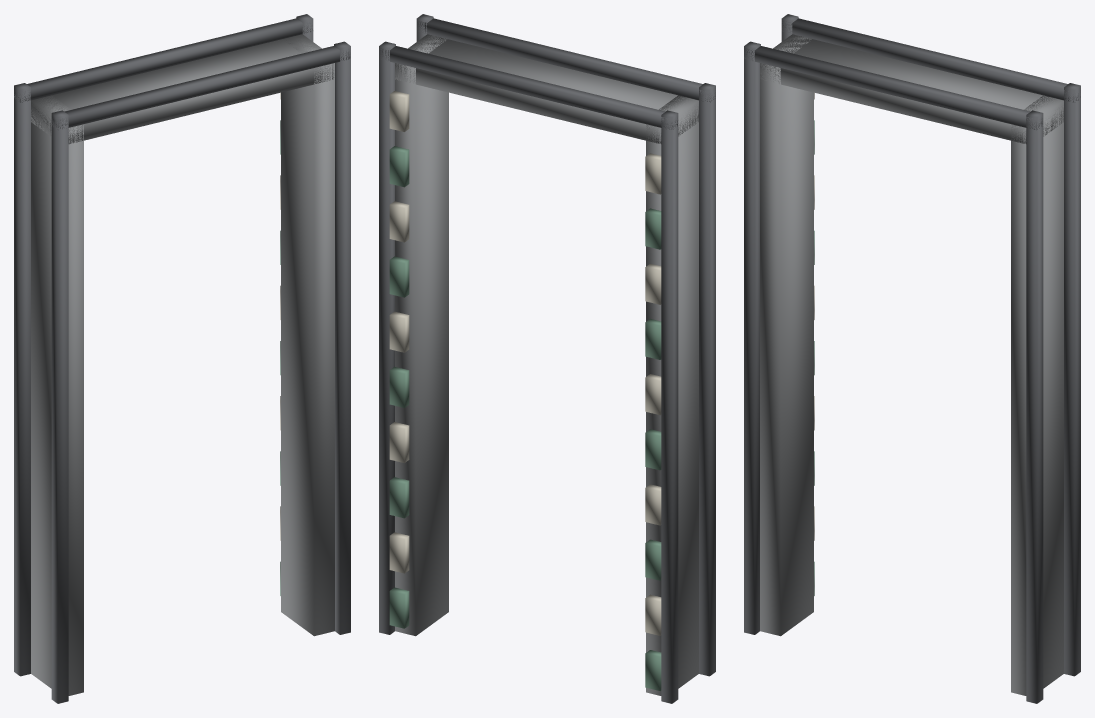
The model's file is doorway_tile_return_w96_h220_d24.glb.
The picture shows the model from 3 angles, left to right: view 1: azimuth 30°, elevation 25°; view 2: azimuth 150°, elevation 25°; view 3: azimuth 330°, elevation 25°; orthographic projection.
Parts seen in each view (by area): view 1: world; view 2: world; view 3: world.
Boxes of the visible parts, x1=… form: world: x1=14, y1=14, x2=350, y2=703; world: x1=379, y1=14, x2=715, y2=703; world: x1=744, y1=14, x2=1080, y2=703.
Size of the model in its own units: 1.22 by 2.34 by 0.3207.
